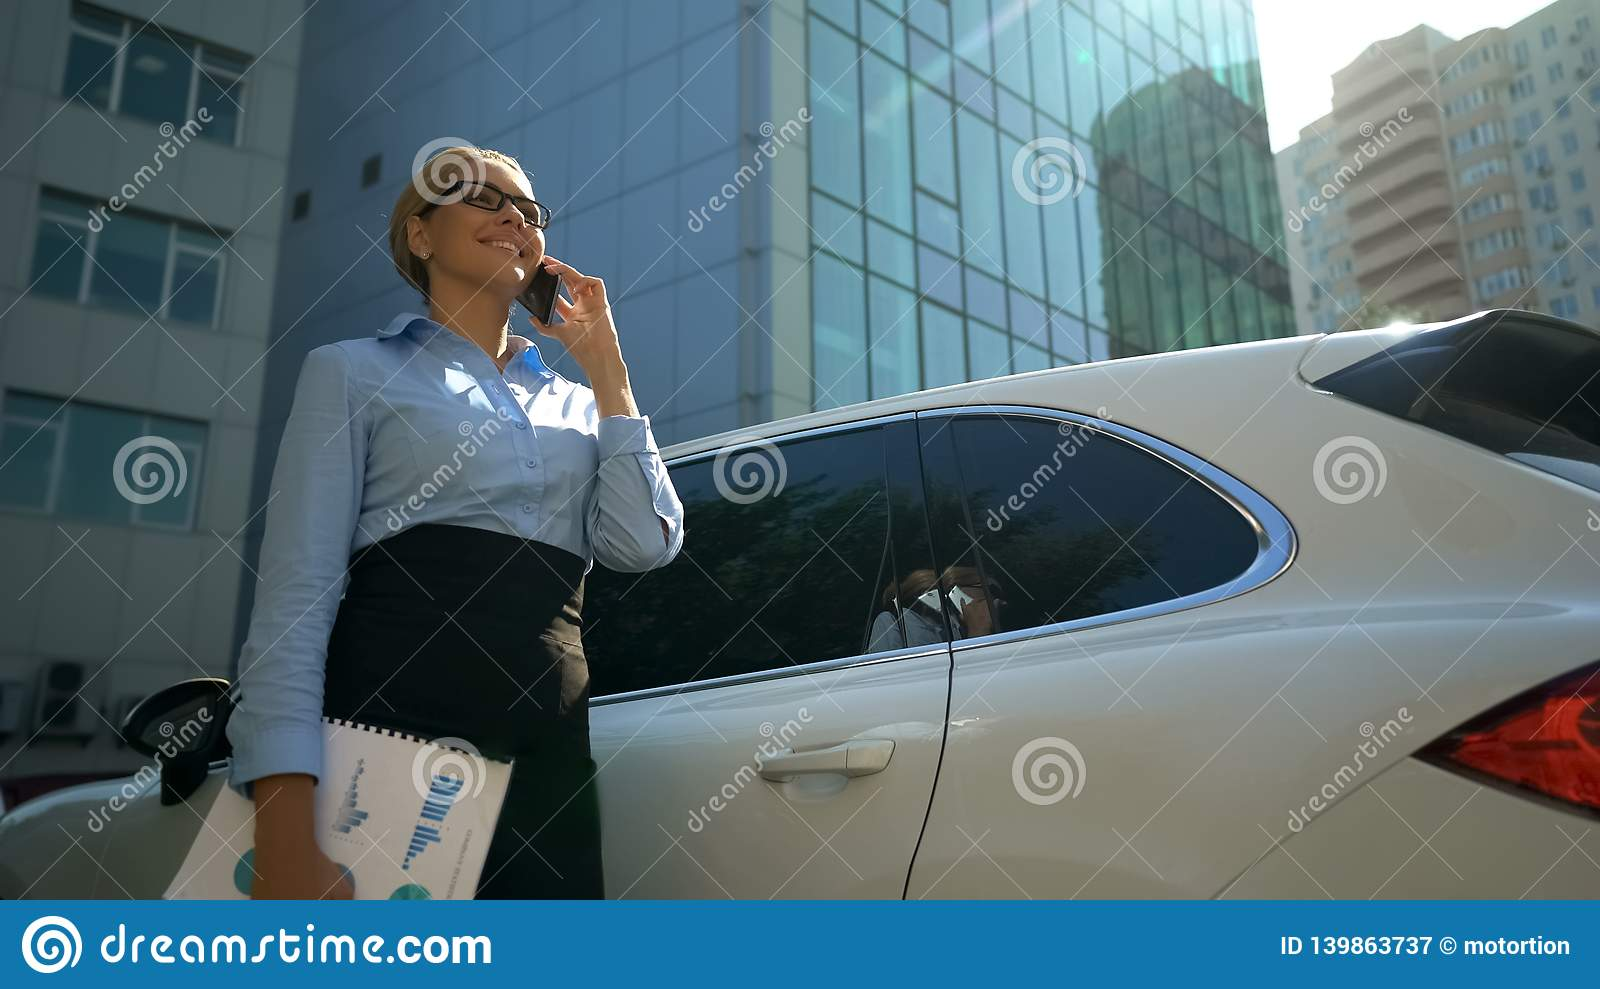phone: (510, 261, 568, 330)
talk: (459, 173, 621, 375)
